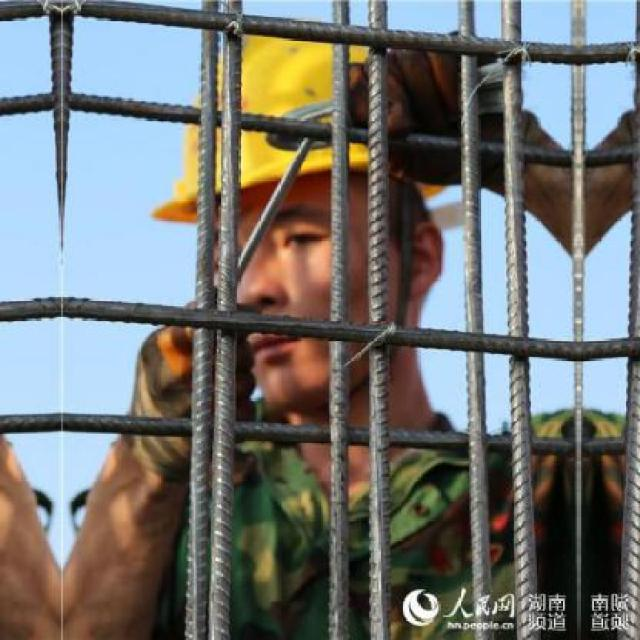helmet: (141, 13, 456, 415)
